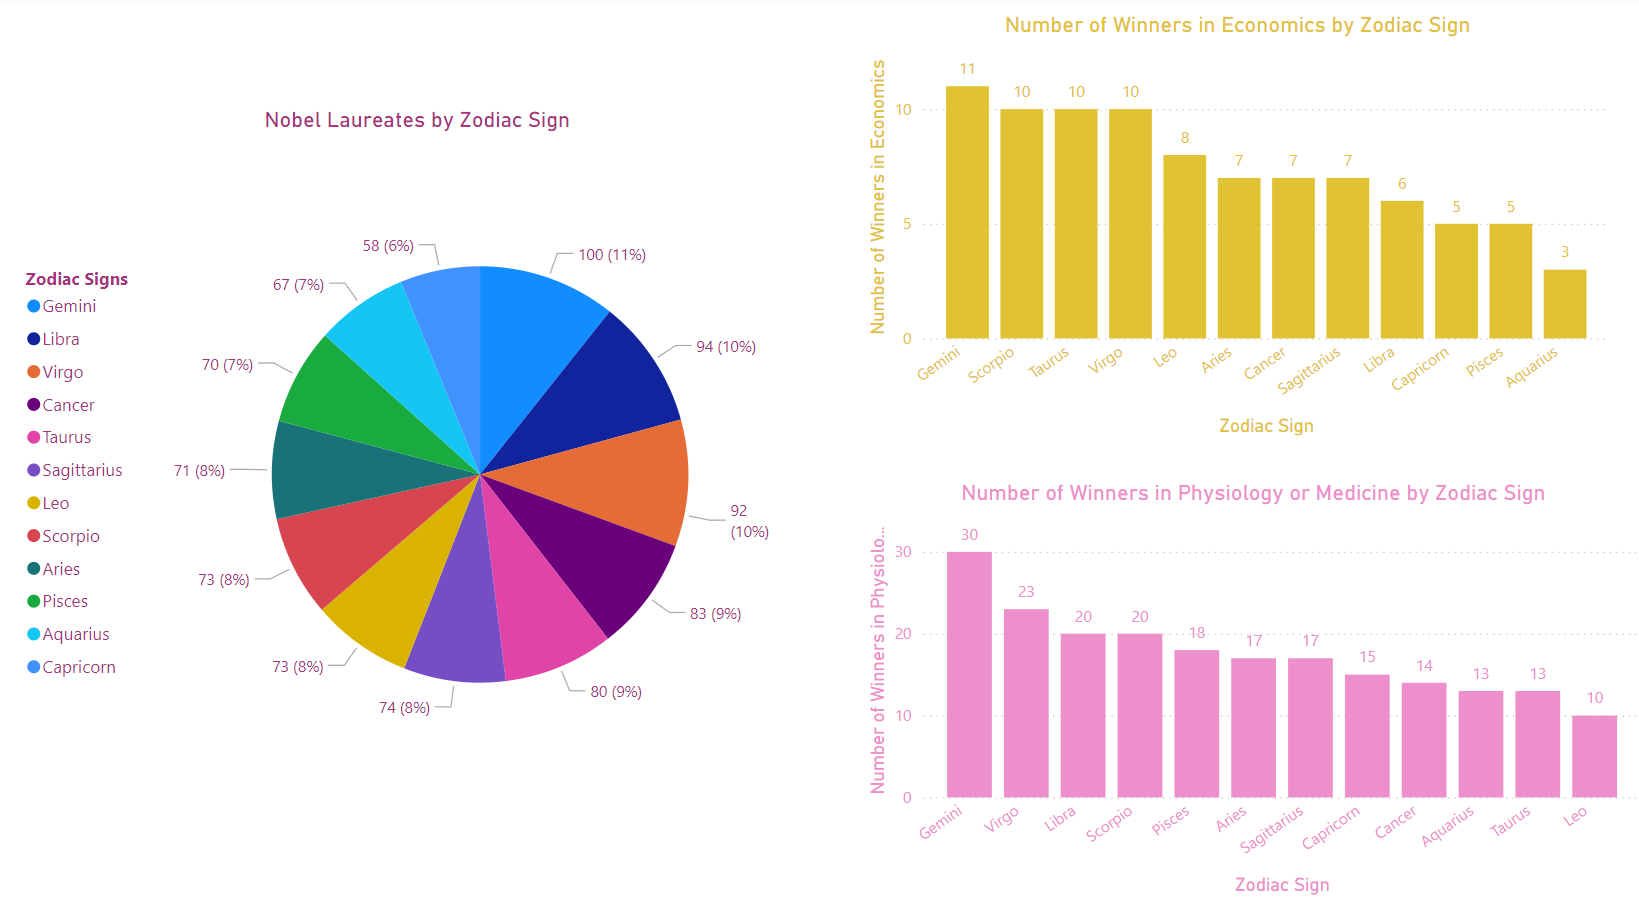

The page's visual inventory and layout, read from the dashboard file:
{"tool":"powerbi","page":{"name":"Page 1","canvas":[1280,720],"ordinal":0},"visuals":[{"type":"pieChart","fields":{"Category":["nobel.Zodiac Sign"],"Y":["CountNonNull(nobel.Zodiac Sign)"]},"box":[23.2,85.7,615.3,549.2],"z":0},{"type":"clusteredColumnChart","fields":{"Category":["nobel.Zodiac Sign"],"Y":["CountNonNull(nobel.Prize)"]},"box":[673.2,12.7,582.8,332.6],"z":1000},{"type":"clusteredColumnChart","fields":{"Category":["nobel.Zodiac Sign"],"Y":["CountNonNull(nobel.Prize)"]},"box":[673.2,374.3,607.2,325.6],"z":2000}]}

Visuals, with their boxes in screenshot pixels (x1, y1, x2, y2), scaled from the page's 1280x720 canvas onto the 1639x918 screenshot:
pieChart - nobel.Zodiac Sign x CountNonNull(nobel.Zodiac Sign): 30, 109, 818, 809
clusteredColumnChart - nobel.Zodiac Sign x CountNonNull(nobel.Prize): 862, 16, 1608, 440
clusteredColumnChart - nobel.Zodiac Sign x CountNonNull(nobel.Prize): 862, 477, 1638, 892
